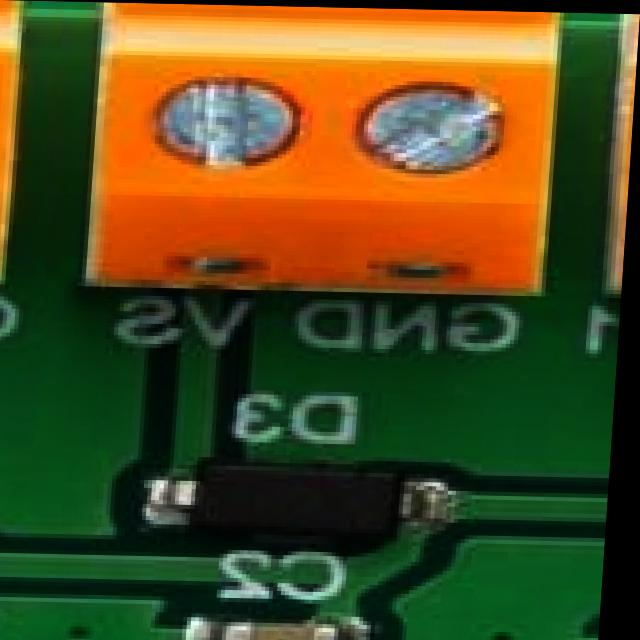capacitor: (206, 624, 360, 640)
connector: (69, 1, 556, 298), (0, 0, 44, 289), (608, 11, 640, 311)
diode: (160, 455, 424, 538)
